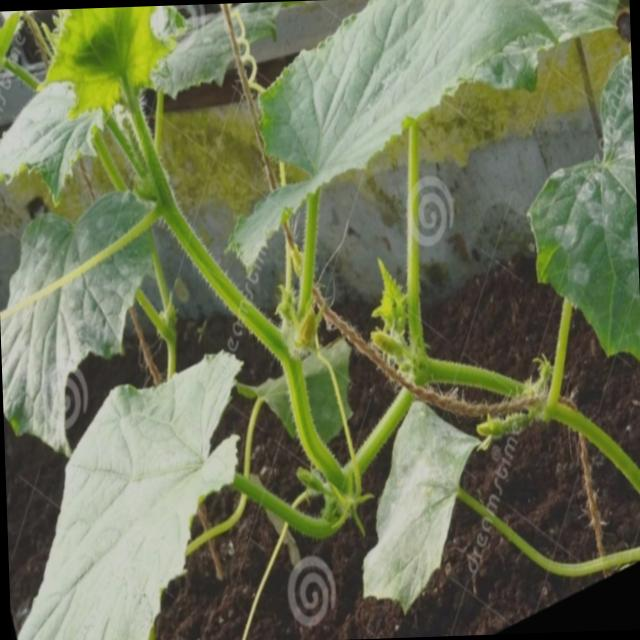Powdery_Mildew: (0, 187, 165, 448), (528, 45, 640, 353), (467, 0, 632, 105)
